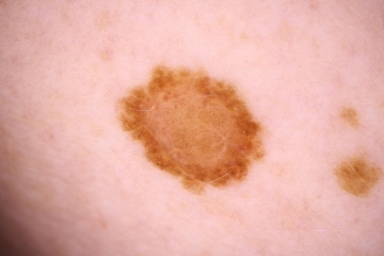melanoma: (115, 67, 271, 197), (335, 157, 384, 199), (340, 104, 368, 137)
